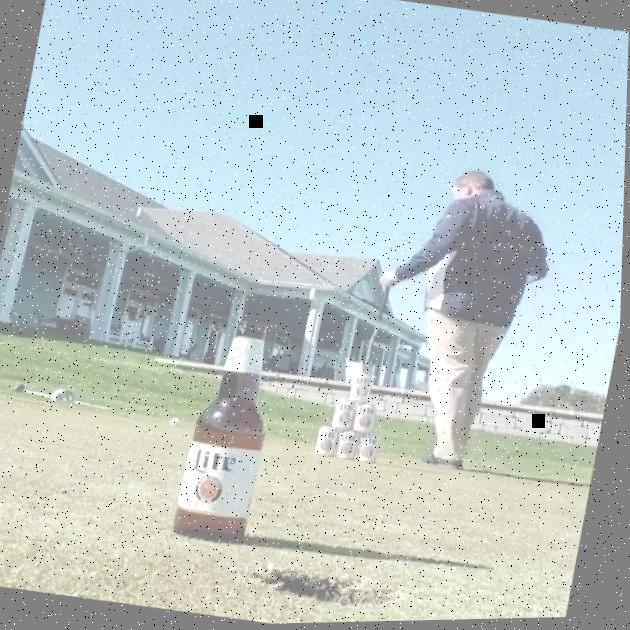GolfBall: (171, 418, 183, 427)
